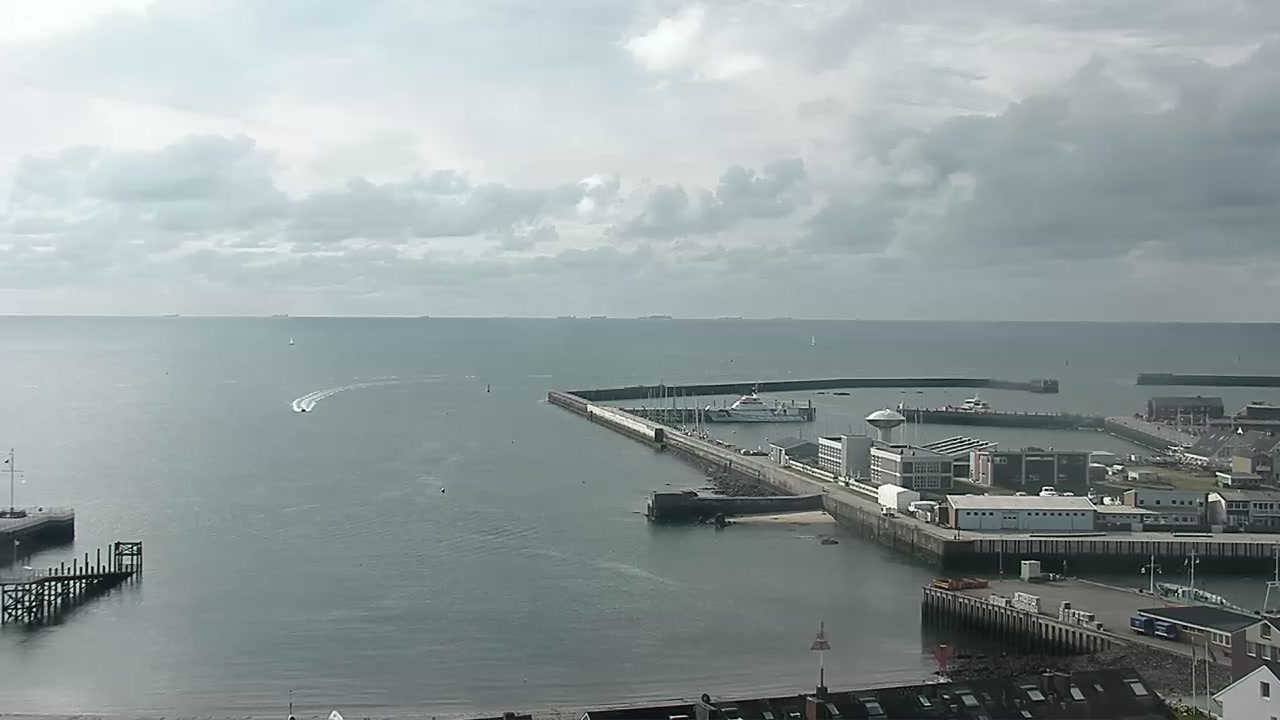sea: (1154, 540, 1280, 619), (704, 382, 807, 421), (941, 391, 991, 410), (810, 335, 816, 347), (288, 337, 295, 345), (300, 407, 306, 412)
